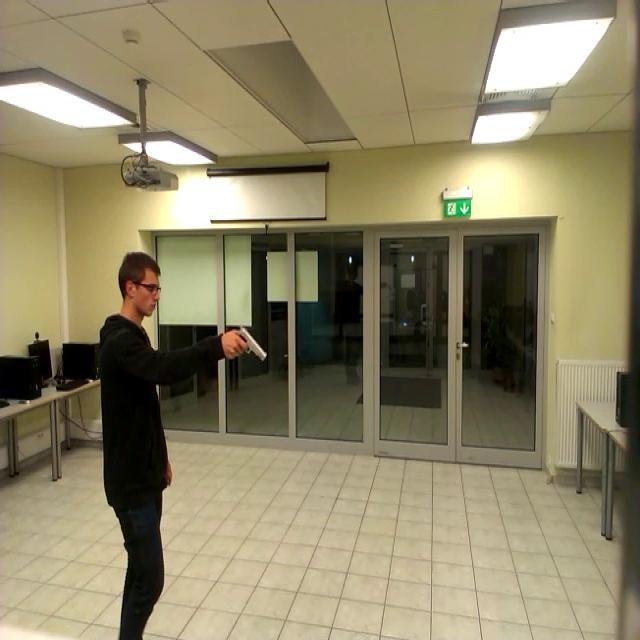Gun: (228, 318, 268, 374)
